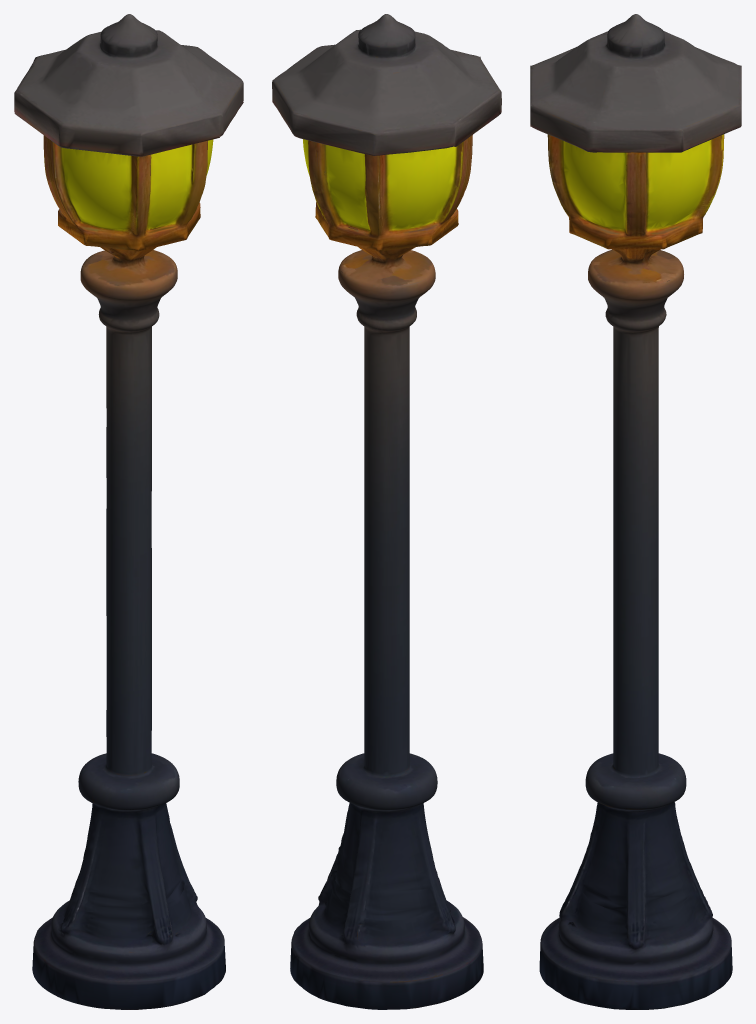
The model's file is env_streetlamp.glb.
3 renders of one model, left to right at view 1: azimuth 30°, elevation 25°; view 2: azimuth 150°, elevation 25°; view 3: azimuth 270°, elevation 25°, orthographic.
Parts seen in each view (by area): view 1: model; view 2: model; view 3: model.
Boxes of the visible parts, box(x1,y1,x2,y2) form: model: box(14, 14, 243, 1009); model: box(272, 14, 501, 1009); model: box(530, 14, 741, 1009).
Bounding box in the file's own units: 0.3809 × 1.9 × 0.3811.
Materials: 1 (1 with a texture image).
